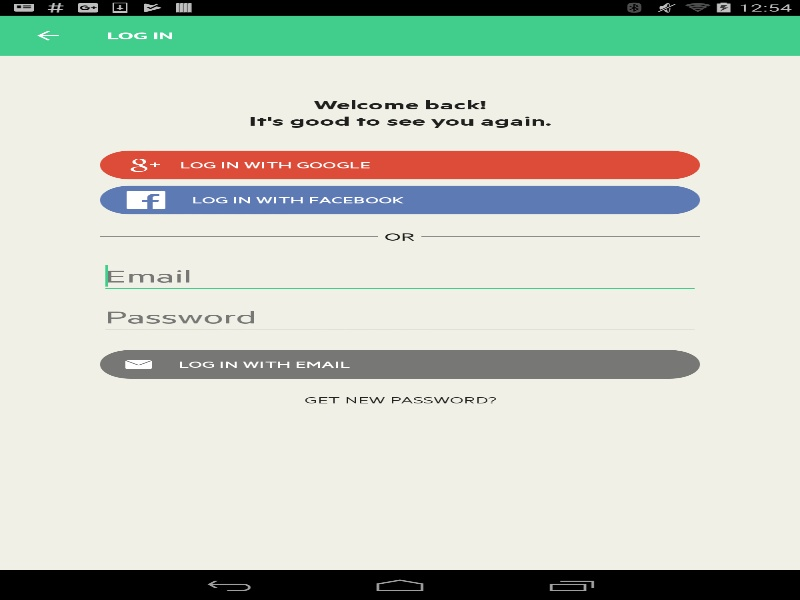Button: (100, 150, 700, 179), (100, 185, 700, 214), (100, 350, 700, 378), (10, 15, 85, 55)
Input: (100, 258, 700, 293), (100, 299, 700, 334)
